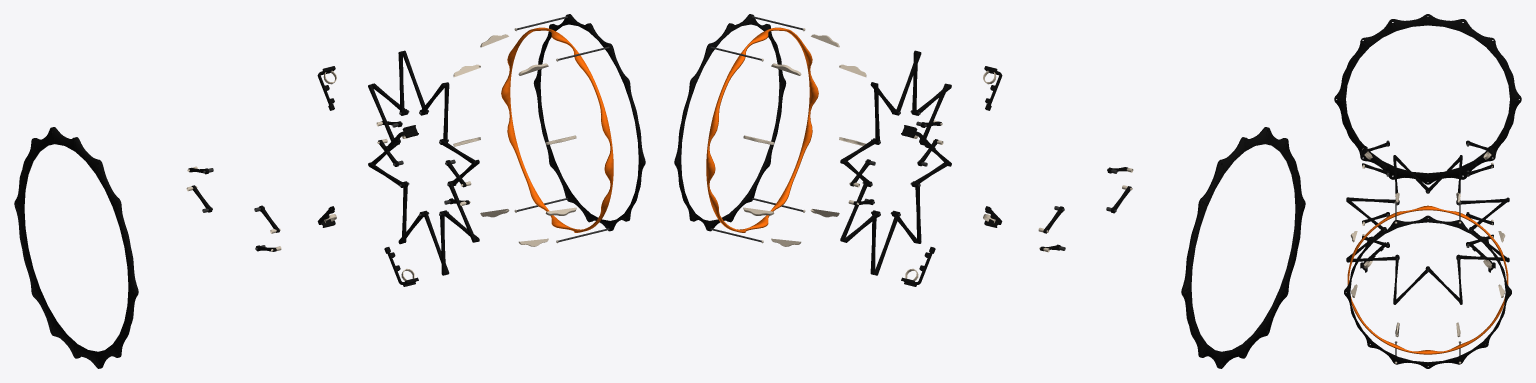
Rendered from 7_outer_mount.FBX.
3 renders of one model, left to right at view 1: azimuth 30°, elevation 25°; view 2: azimuth 150°, elevation 25°; view 3: azimuth 270°, elevation 25°, orthographic. The views are drawn at different scales.
Parts seen in each view (by area): view 1: 7_outer_mount; view 2: 7_outer_mount; view 3: 7_outer_mount.
Part boxes in pixels (left/top/right/bottom): 7_outer_mount: left=14, top=14, right=645, bottom=368; 7_outer_mount: left=674, top=14, right=1305, bottom=368; 7_outer_mount: left=1334, top=14, right=1521, bottom=368.
Bounding box in the file's own units: 3.86 × 1.57 × 1.57.
